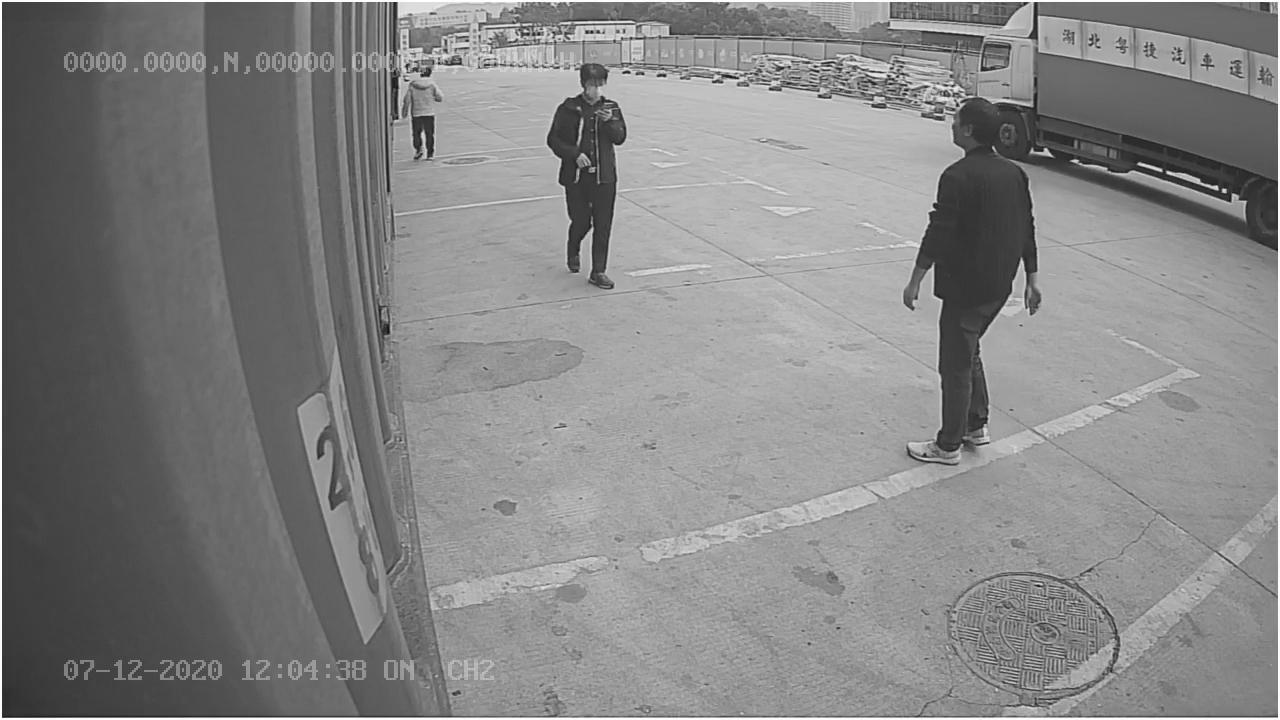person: (546, 63, 628, 288)
